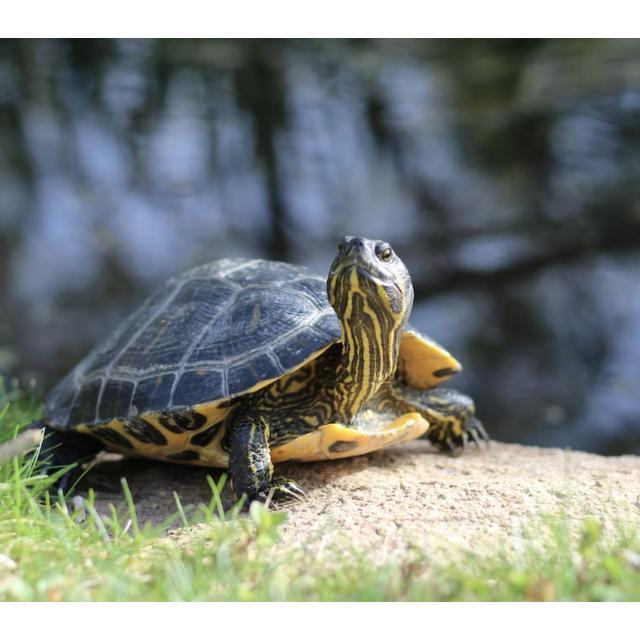turtle: (40, 234, 491, 512)
